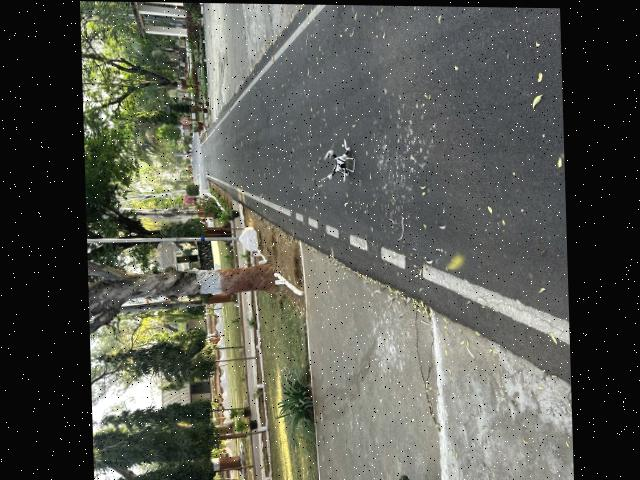drone: (298, 135, 390, 209)
